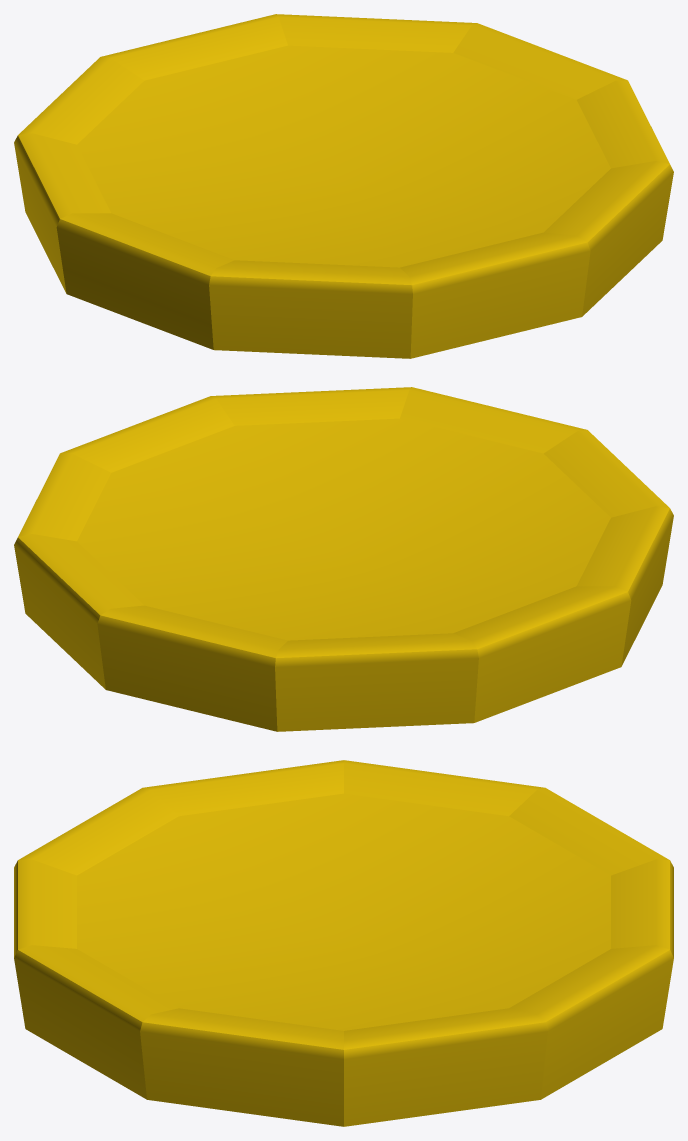
File: straw sitting.fbx
The picture shows the model from 3 angles, top to bottom: view 1: azimuth 30°, elevation 25°; view 2: azimuth 150°, elevation 25°; view 3: azimuth 270°, elevation 25°; orthographic projection. The views are drawn at different scales.
Parts seen in each view (by area): view 1: pCylinder13; view 2: pCylinder13; view 3: pCylinder13.
Part boxes in pixels (<box>): pCylinder13: <box>14,14,673,358</box>; pCylinder13: <box>14,387,673,731</box>; pCylinder13: <box>14,760,673,1126</box>.
Size of the model in its own units: 1.48 by 0.1959 by 1.41.
